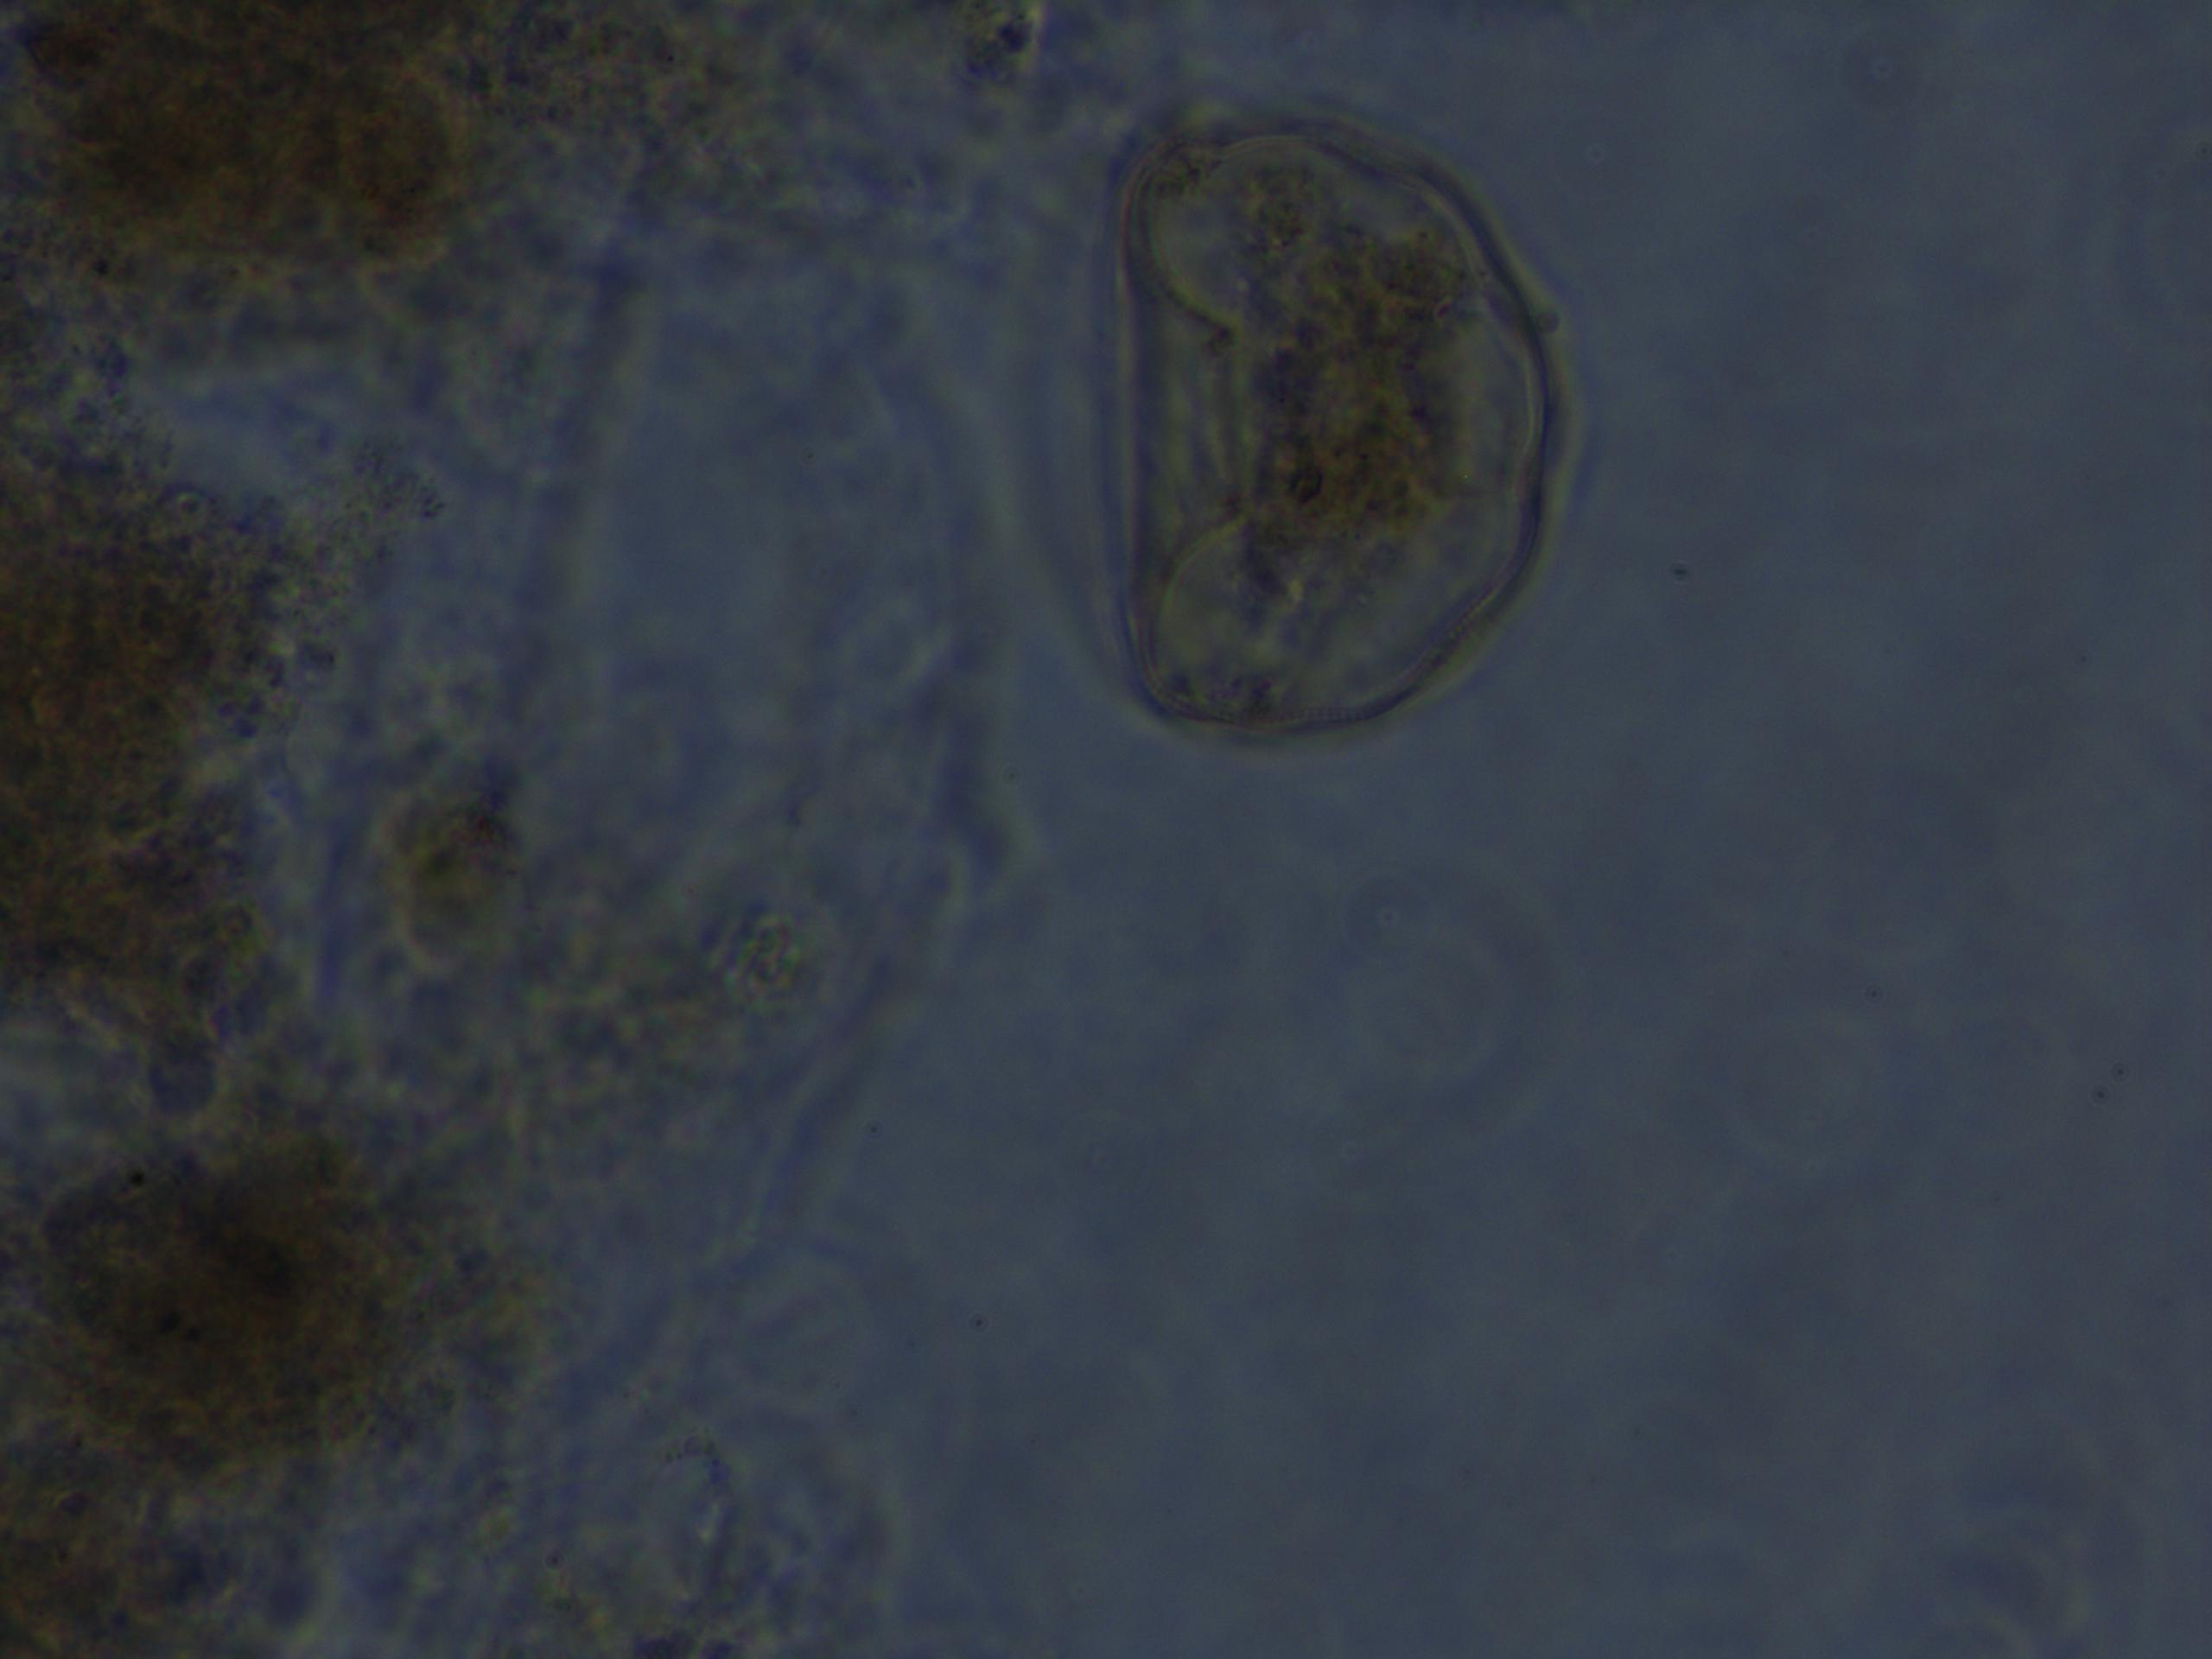protozoa: (1106, 98, 1568, 746)
